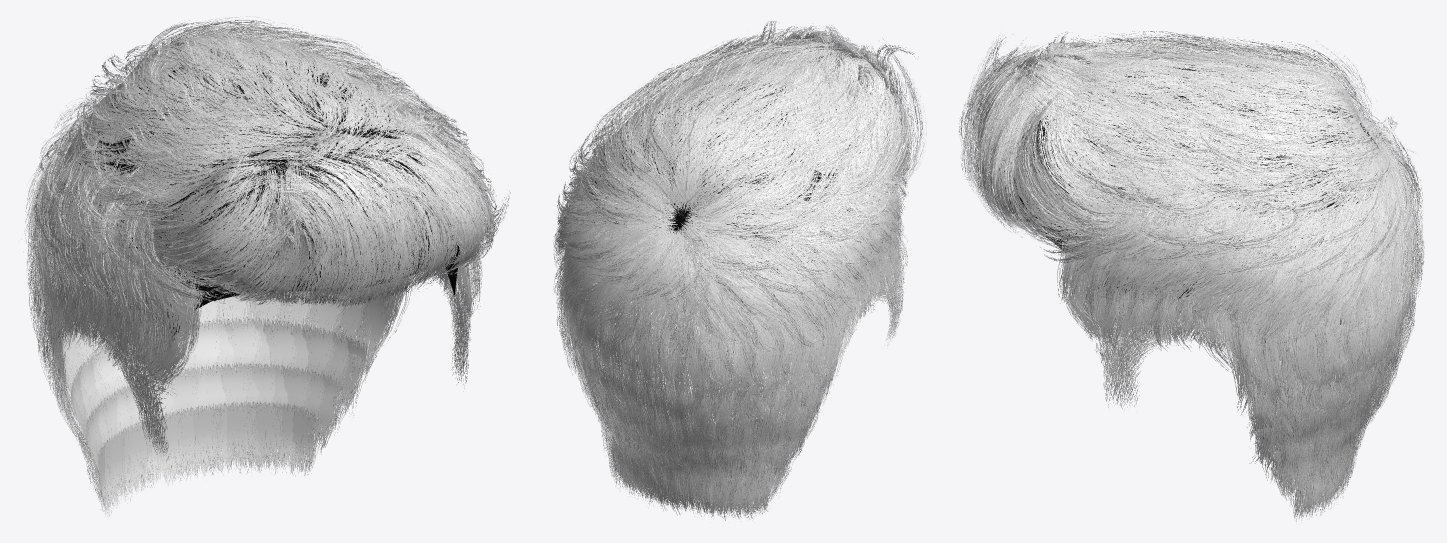
Rendered from hair 4.fbx.
3 views of the same model, side by side, from view 1: azimuth 30°, elevation 25°; view 2: azimuth 150°, elevation 25°; view 3: azimuth 270°, elevation 25° (orthographic). The views are drawn at different scales.
Visible parts, largest first — view 1: hair; view 2: hair; view 3: hair.
Part boxes in pixels (x1,y1,x2,y2): hair: [23, 16, 510, 517]; hair: [553, 21, 926, 520]; hair: [958, 29, 1424, 521].
Bounding box in the file's own units: 17.76 × 22.56 × 21.63.
